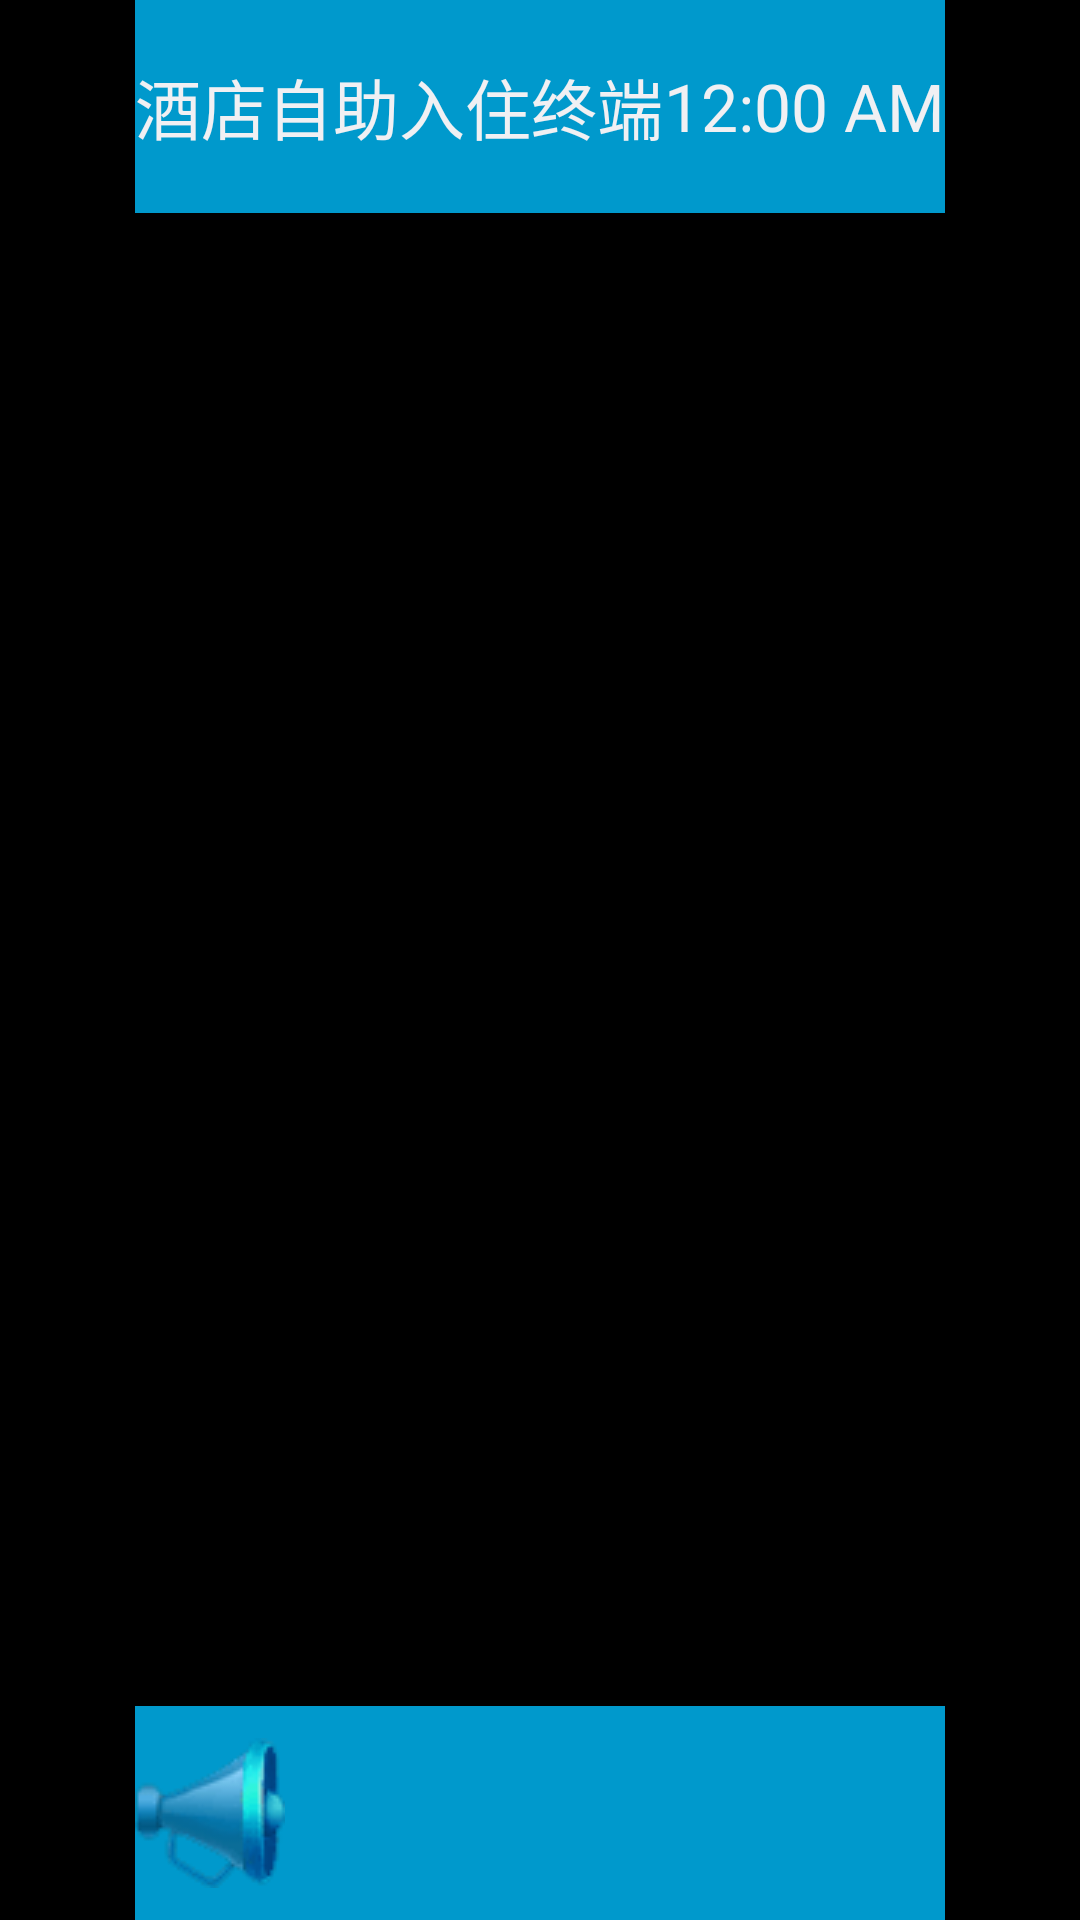

Screen size 1080 x 1920. Icon name, then its box in pixels as (x1, y1, x2, y2):
公告图案: (135, 1742, 285, 1885)
